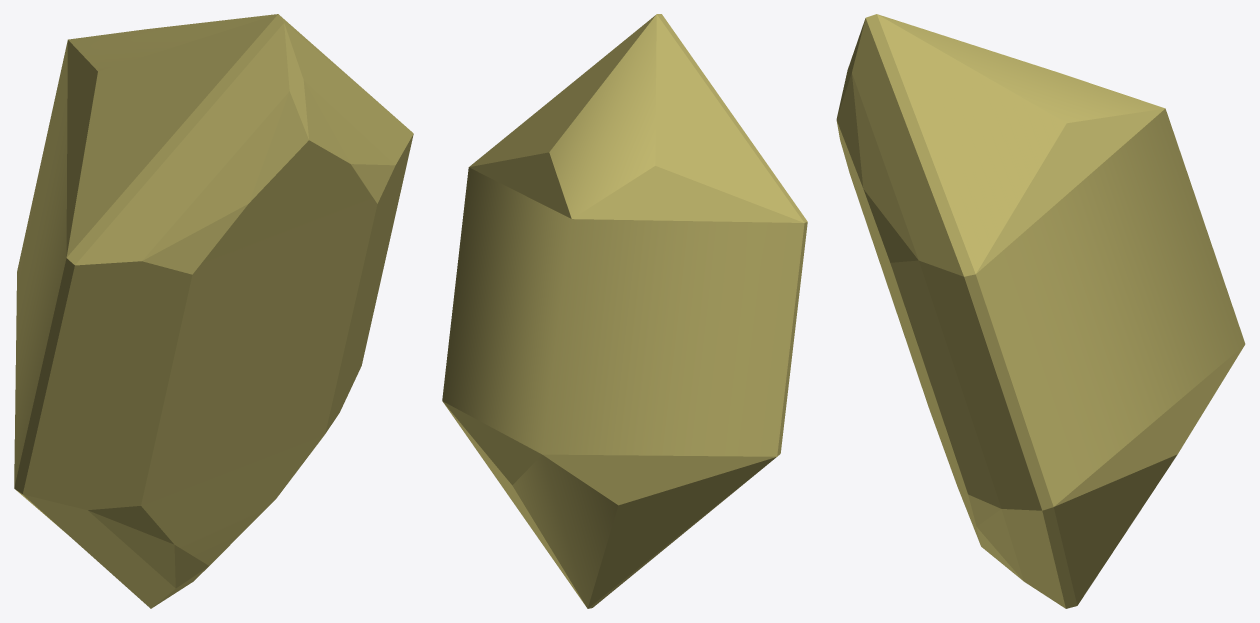
File: BR1_8shapes_Hex_Classic_Stone.001 2.glb
3 views of the same model, side by side, from view 1: azimuth 30°, elevation 25°; view 2: azimuth 150°, elevation 25°; view 3: azimuth 270°, elevation 25° (orthographic). The views are drawn at different scales.
Visible parts, largest first — view 1: BR1_8shapes_Hex_Classic_Stone.001; view 2: BR1_8shapes_Hex_Classic_Stone.001; view 3: BR1_8shapes_Hex_Classic_Stone.001.
Part boxes in pixels (bbox=[...]): BR1_8shapes_Hex_Classic_Stone.001: bbox=[14, 14, 413, 608]; BR1_8shapes_Hex_Classic_Stone.001: bbox=[442, 14, 807, 608]; BR1_8shapes_Hex_Classic_Stone.001: bbox=[836, 14, 1245, 608].
Bounding box in the file's own units: 0.3693 × 0.6 × 0.3674.
